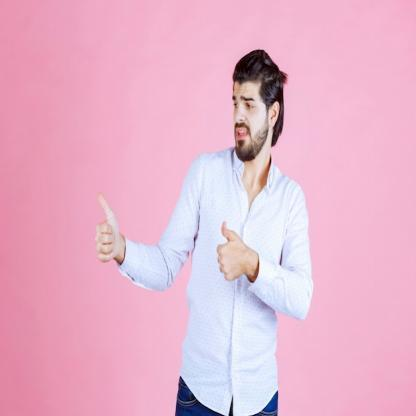thumb_up: (90, 188, 122, 266), (216, 218, 249, 284)
